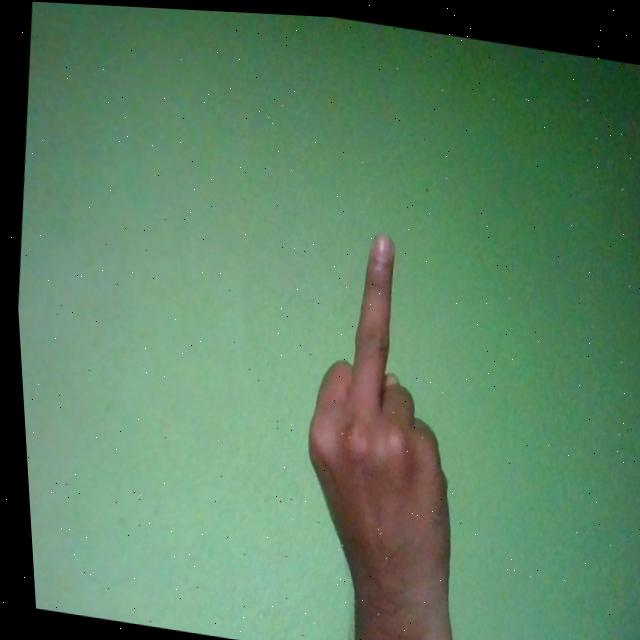Middle Finger: (271, 215, 480, 640)
